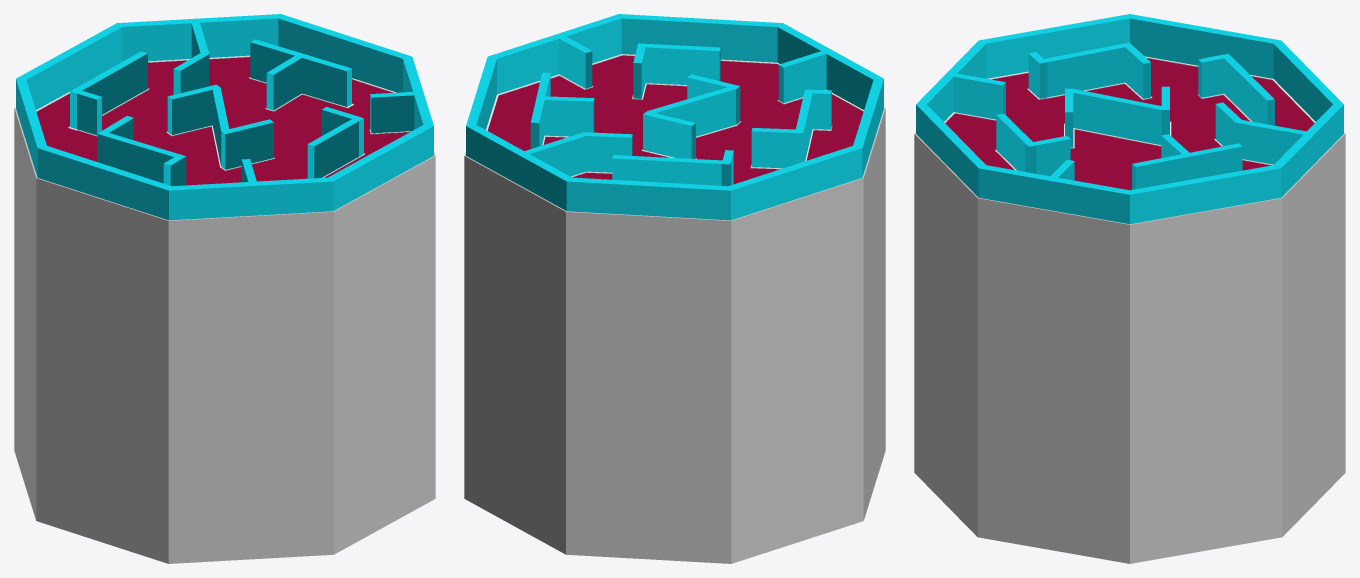
File: Level_3.FBX
3 renders of one model, left to right at view 1: azimuth 30°, elevation 25°; view 2: azimuth 150°, elevation 25°; view 3: azimuth 270°, elevation 25°, orthographic.
Visible parts, largest first — view 1: Level_3; view 2: Level_3; view 3: Level_3.
Boxes of the visible parts, x1,y1,x2,y2 form: Level_3: (14, 14, 435, 563); Level_3: (464, 14, 885, 563); Level_3: (914, 14, 1345, 563).
Size of the model in its own units: 138 by 130 by 138.
